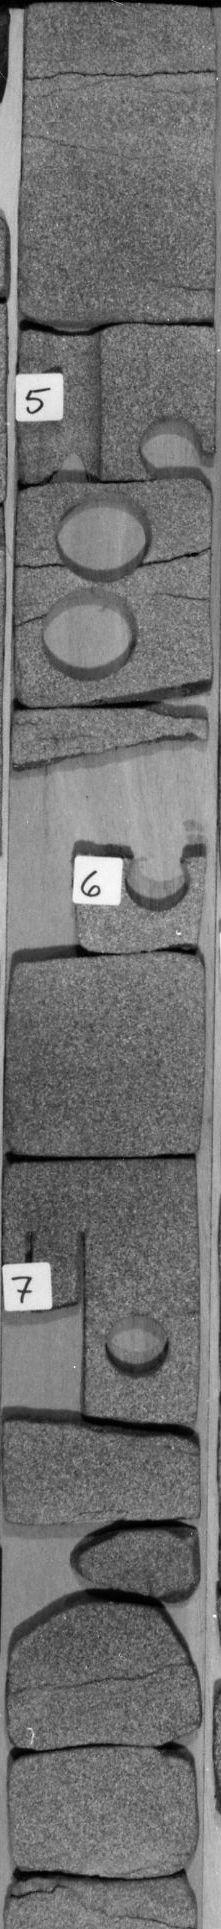hplug: (135, 415, 207, 483), (101, 1314, 172, 1379), (122, 859, 194, 913)
scal: (42, 591, 138, 684), (55, 495, 153, 583)
vplug: (21, 1227, 92, 1418), (41, 331, 104, 481)
